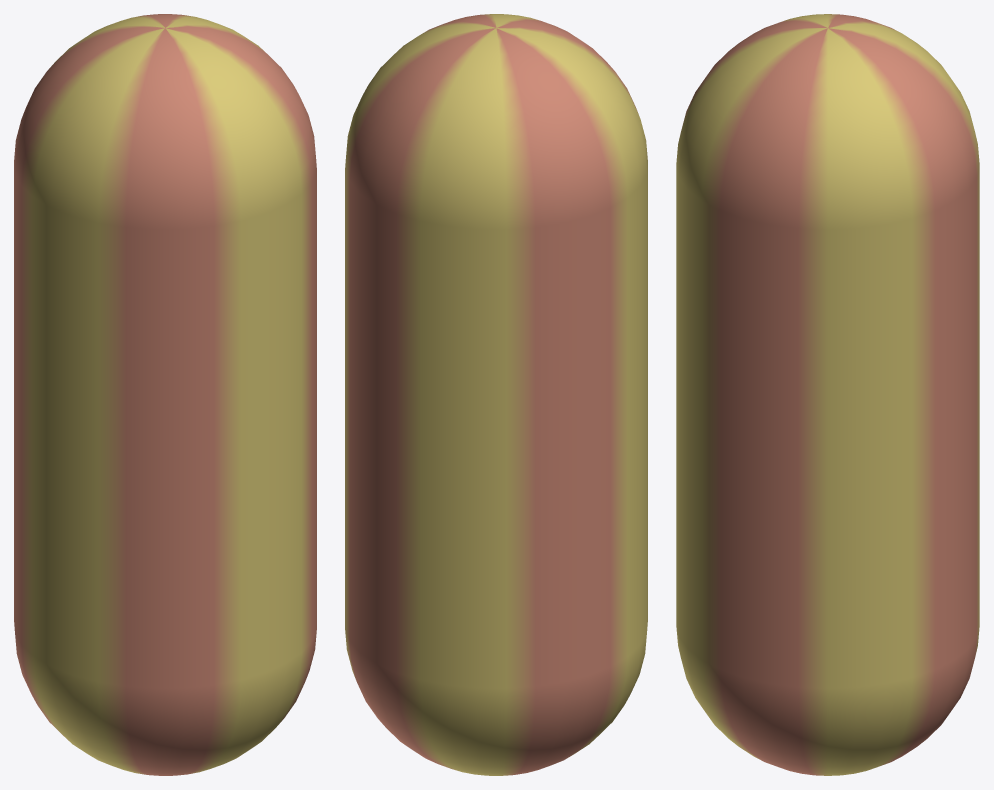
3 views of the same model, side by side, from view 1: azimuth 30°, elevation 25°; view 2: azimuth 150°, elevation 25°; view 3: azimuth 270°, elevation 25° (orthographic).
Parts seen in each view (by area): view 1: Capsule; view 2: Capsule; view 3: Capsule.
Part boxes in pixels (x1,y1,x2,y2): Capsule: (14,14,316,775); Capsule: (345,14,647,775); Capsule: (676,14,979,775).
Bounding box in the file's own units: 0.6 × 1.6 × 0.6.
